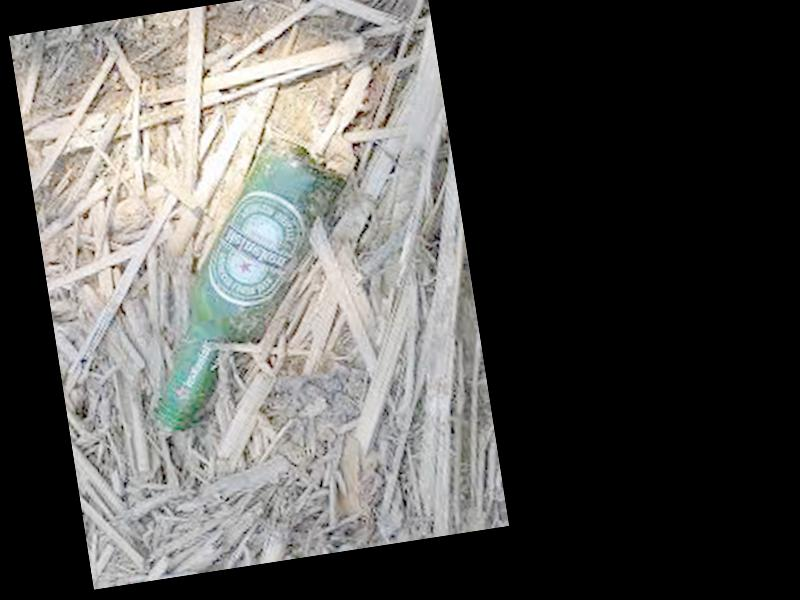Beer: (118, 130, 376, 437)
